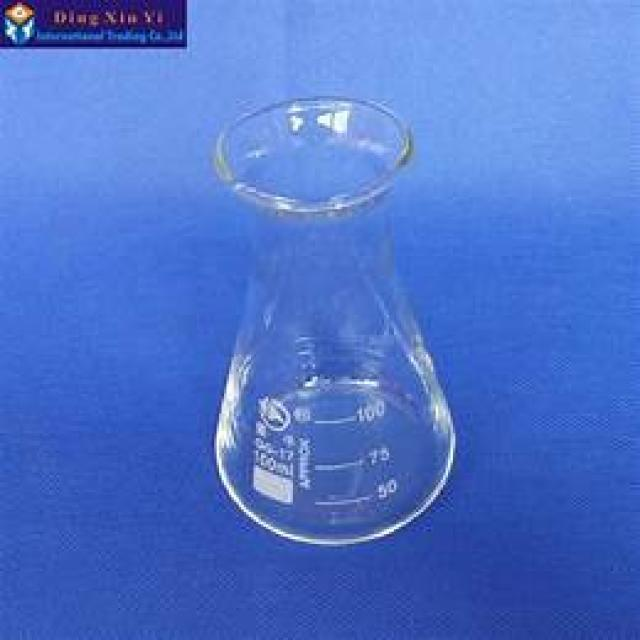Titrarion: (197, 109, 464, 551)
